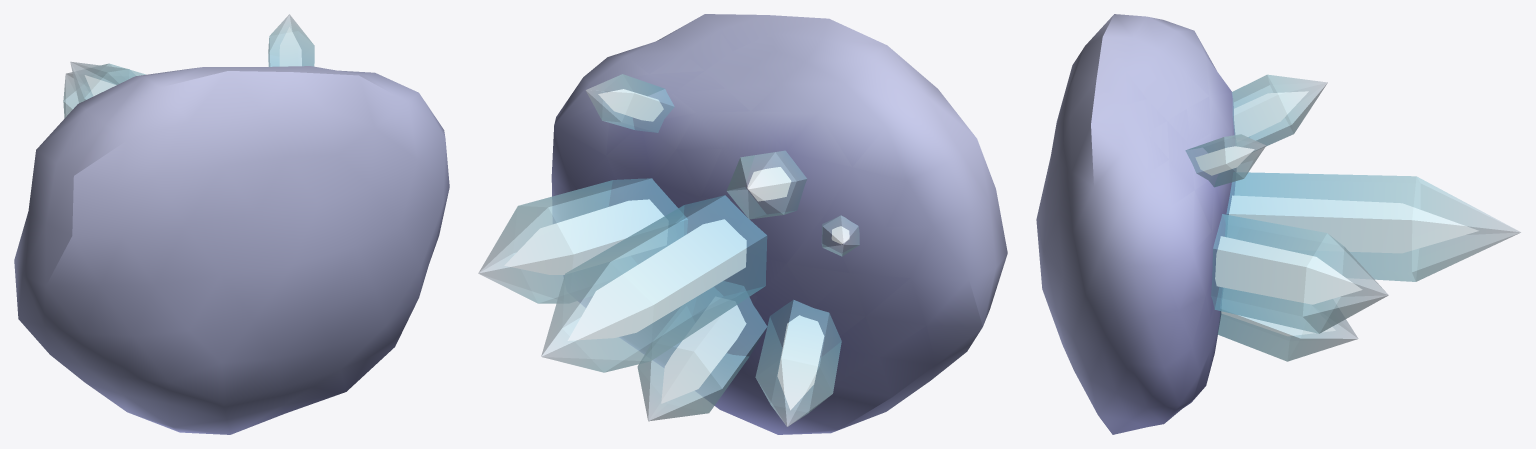
The model's file is verdant_cave_crystal_wall_a.glb.
3 renders of one model, left to right at view 1: azimuth 30°, elevation 25°; view 2: azimuth 150°, elevation 25°; view 3: azimuth 270°, elevation 25°, orthographic. The views are drawn at different scales.
Visible parts, largest first — view 1: verdant_cave_crystal_wall_a; view 2: verdant_cave_crystal_wall_a; view 3: verdant_cave_crystal_wall_a.
Part boxes in pixels (bbox=[...]): verdant_cave_crystal_wall_a: bbox=[14, 14, 449, 434]; verdant_cave_crystal_wall_a: bbox=[478, 14, 1007, 434]; verdant_cave_crystal_wall_a: bbox=[1036, 14, 1520, 434].
Size of the model in its own units: 1.98 by 1.68 by 2.07.
